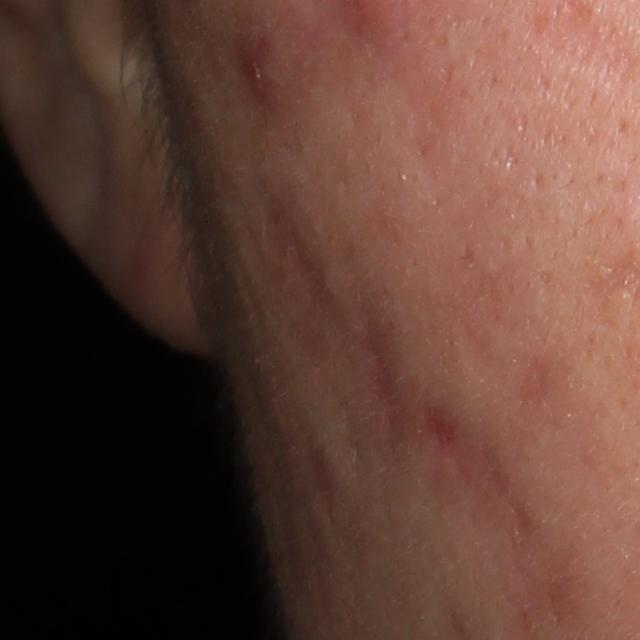atrophic_scar: (261, 204, 414, 455), (418, 413, 555, 598)
papule: (228, 25, 298, 112)
